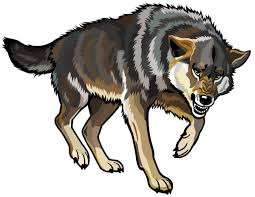Lobo: (1, 1, 246, 195)
